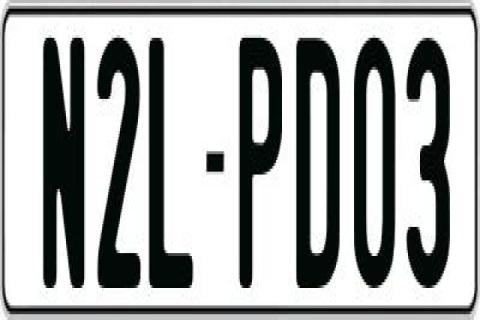0: (404, 35, 454, 288), (94, 35, 140, 291), (352, 38, 396, 294)
D: (296, 38, 344, 294)
L: (147, 35, 197, 303)
N: (44, 29, 92, 291)
P: (240, 38, 284, 297)
